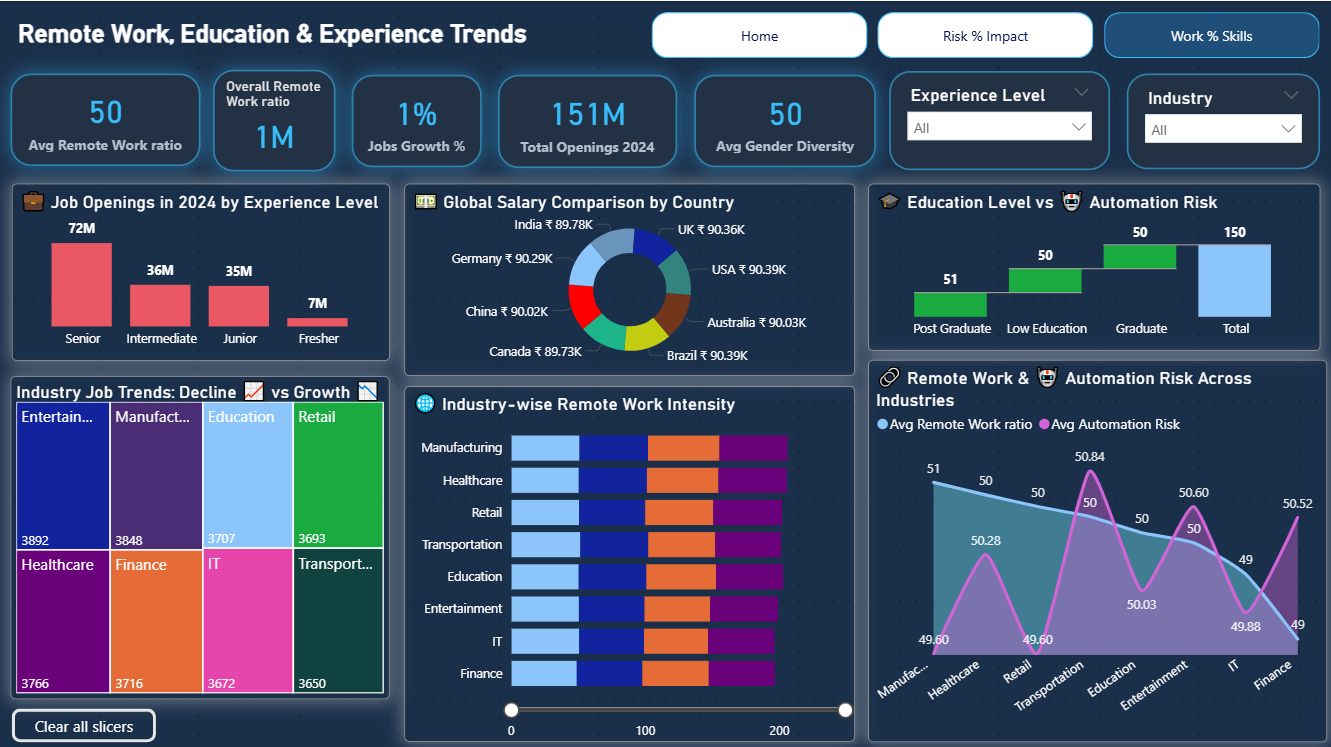

What the dashboard file says about the page in this screenshot:
{"tool":"powerbi","page":{"name":"Work % Skills","canvas":[1280,720],"ordinal":3},"visuals":[{"type":"textbox","title":"Remote Work, Education & Experience Trends","box":[14,16.6,499.1,33.2],"z":0},{"type":"areaChart","title":"🔗 Remote Work & 🤖 Automation Risk Across Industries","fields":{"Category":["Domain Industry.Industry"],"Y":["AI Jobs Measures.Avg Remote Work ratio"],"Y2":["AI Jobs Measures.Avg Automation Risk"]},"box":[834.8,344.4,440.5,366.9],"z":1000},{"type":"barChart","title":"🌐 Industry-wise Remote Work Intensity","fields":{"Category":["Domain Industry.Industry"],"Y":["AI Jobs Measures.Avg Remote Work ratio"],"Series":["AI_Job_Trends.Job Growth Category"]},"box":[390.6,369.4,433,341.9],"z":2000},{"type":"card","fields":{"Values":["AI Jobs Measures.Avg Gender Diversity"]},"box":[668.8,71.1,174.7,88.6],"z":3000},{"type":"card","fields":{"Values":["AI Jobs Measures.Total Openings 2024"]},"box":[480.4,71.1,172.2,89.8],"z":4000},{"type":"clusteredColumnChart","title":"💼 Job Openings in 2024 by Experience Level","fields":{"Category":["Exp Levels.Experience Level"],"Y":["AI Jobs Measures.Total Openings 2024"]},"box":[13.1,175,363.1,170.2],"z":5000},{"type":"card","fields":{"Values":["AI Jobs Measures.Avg Remote Work ratio"]},"box":[12.5,69.9,182.2,88.6],"z":6000},{"type":"card","title":"Overall Remote Work ratio","fields":{"Values":["Sum(AI_Job_Trends.Remote Work Ratio (%))"]},"box":[205.9,66.1,117.3,97.3],"z":7000},{"type":"card","fields":{"Values":["AI Jobs Measures.Jobs Growth %"]},"box":[339.4,71.1,124.8,88.6],"z":8000},{"type":"waterfallChart","title":"🎓 Education Level vs 🤖 Automation Risk","fields":{"Category":["AI_Job_Trends.Education Status","AI_Job_Trend_Summary.Avg Salary"],"Y":["AI Jobs Measures.Avg Automation Risk"]},"box":[834.8,174.7,434.2,161],"z":9000},{"type":"donutChart","title":"💵 Global Salary Comparison by Country","fields":{"Y":["AI Jobs Measures.Average Salary"],"Series":["AI_Job_Trends.Country"]},"box":[390.6,174.7,433,184.7],"z":10000},{"type":"slicer","fields":{"Values":["AI_Job_Trends.Experience Level"]},"box":[856,67.4,212.1,94.8],"z":11000},{"type":"slicer","fields":{"Values":["AI_Job_Trends.Industry"]},"box":[1084,69.3,185.3,92],"z":12000},{"type":"treemap","title":"Industry Job Trends: Decline 📈 vs Growth 📉","fields":{"Details":["Domain Industry.Industry"],"Values":["AI Jobs Measures.Jobs Count"]},"box":[11.9,359.5,364.3,310.7],"z":13000},{"type":"pageNavigator","box":[628,10.7,641.3,44],"z":14000},{"type":"actionButton","box":[13.7,678.8,138.5,32.4],"z":15000}]}

Visuals, with their boxes in screenshot pixels (x1, y1, x2, y2), scaled from the page's 1280x720 canvas onto the 1331x747 screenshot:
"Remote Work, Education & Experience Trends" textbox: left=15, top=17, right=534, bottom=52
"🔗 Remote Work & 🤖 Automation Risk Across Industries" areaChart: left=868, top=357, right=1326, bottom=738
"🌐 Industry-wise Remote Work Intensity" barChart: left=406, top=383, right=856, bottom=738
card - AI Jobs Measures.Avg Gender Diversity: left=695, top=74, right=877, bottom=166
card - AI Jobs Measures.Total Openings 2024: left=500, top=74, right=679, bottom=167
"💼 Job Openings in 2024 by Experience Level" clusteredColumnChart: left=14, top=182, right=391, bottom=358
card - AI Jobs Measures.Avg Remote Work ratio: left=13, top=73, right=202, bottom=164
"Overall Remote Work ratio" card: left=214, top=69, right=336, bottom=170
card - AI Jobs Measures.Jobs Growth %: left=353, top=74, right=483, bottom=166
"🎓 Education Level vs 🤖 Automation Risk" waterfallChart: left=868, top=181, right=1320, bottom=348
"💵 Global Salary Comparison by Country" donutChart: left=406, top=181, right=856, bottom=373
slicer - AI_Job_Trends.Experience Level: left=890, top=70, right=1111, bottom=168
slicer - AI_Job_Trends.Industry: left=1127, top=72, right=1320, bottom=167
"Industry Job Trends: Decline 📈 vs Growth 📉" treemap: left=12, top=373, right=391, bottom=695
pageNavigator: left=653, top=11, right=1320, bottom=57
actionButton: left=14, top=704, right=158, bottom=738
